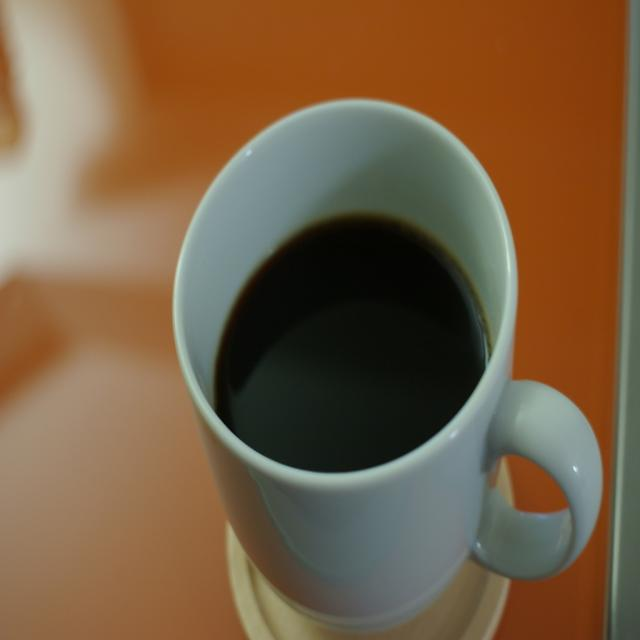Coffee: (171, 91, 607, 636)
Tea: (217, 218, 486, 473)
